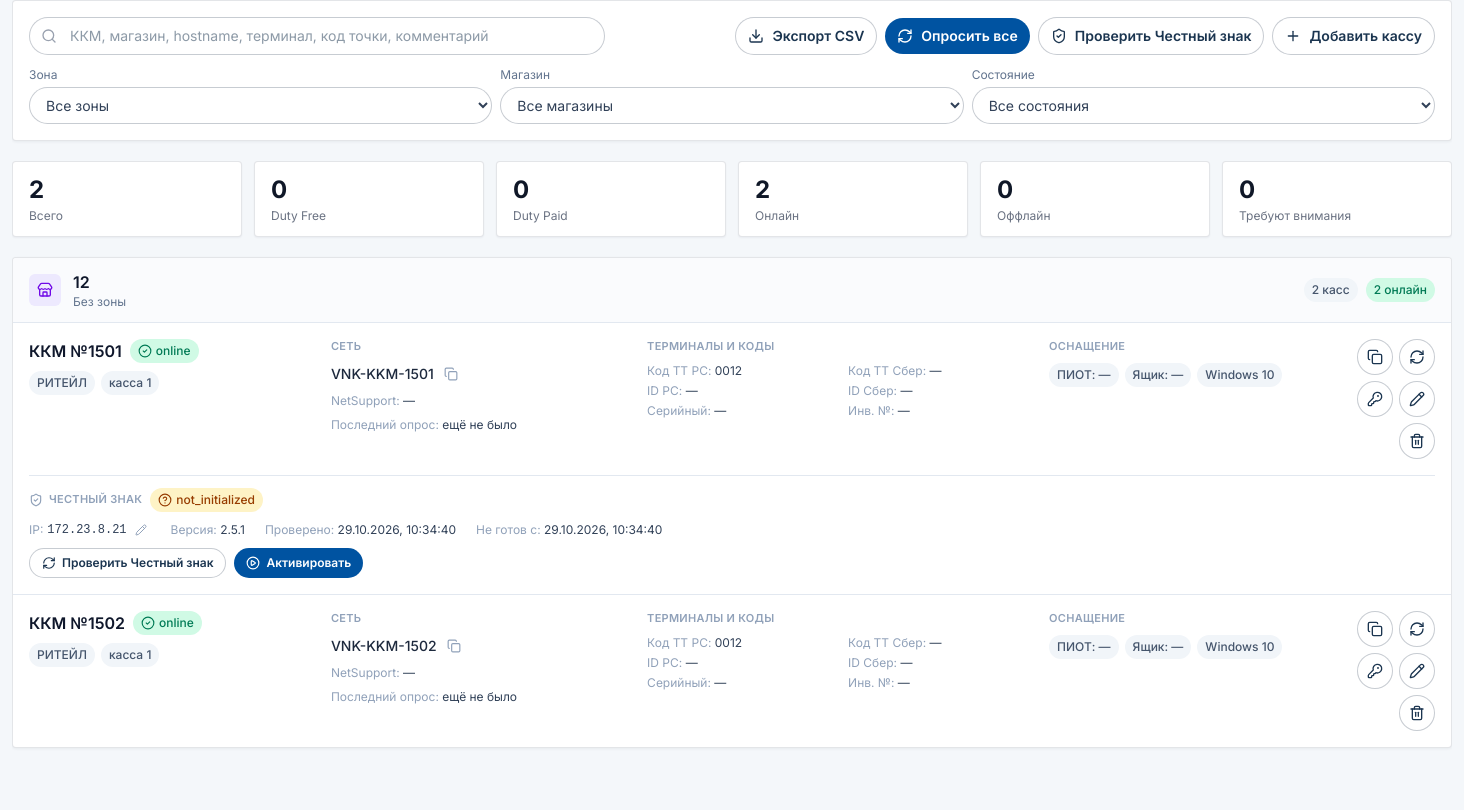
Test: CashRegistersPage Honest Sign › runs a live check for one register and shows the result
Expected: the text "not_initialized" is shown, 150,488 -> 263,512
Click the button "Проверить Честный знак" below "IP:" at (128, 563), box 29,548 -> 226,578
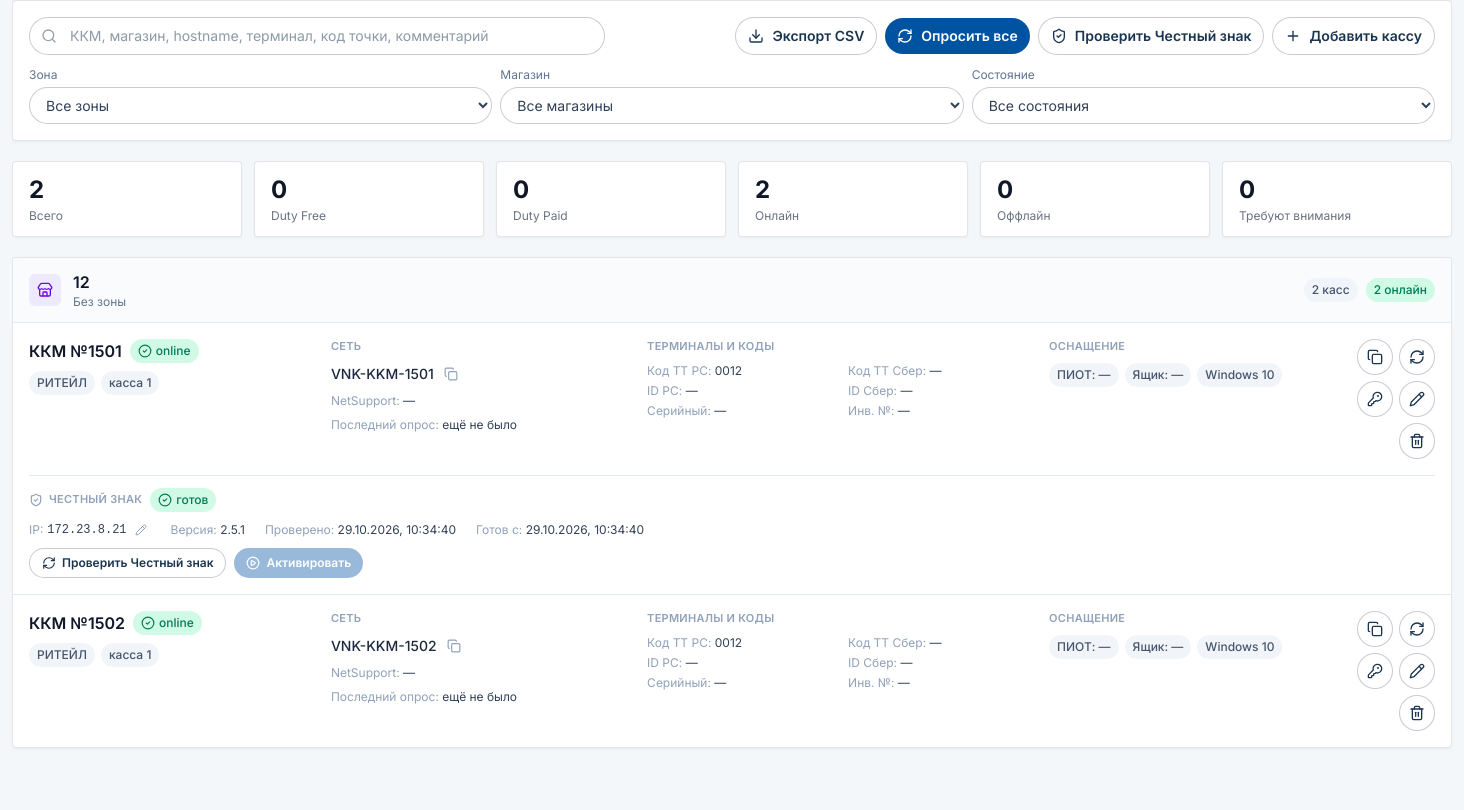
Now the text "готов" is shown, box 150,488 -> 216,512
